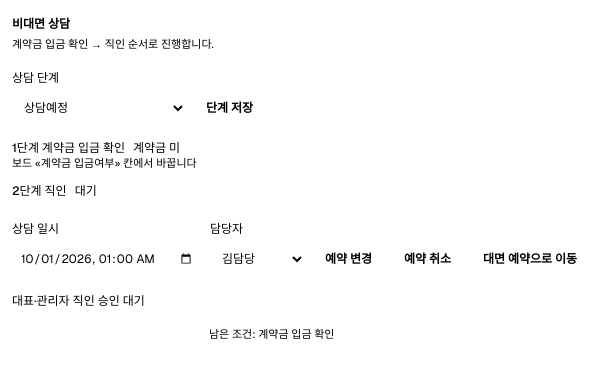
Scenario: ConsultationPanel › 예약(보기 전환) 성공 뒤에도 추가 버튼 없이 갱신된다
The image size is (606, 376).
Click the button "대면 예약으로 이동" at [530, 259], box [471,241,589,277]
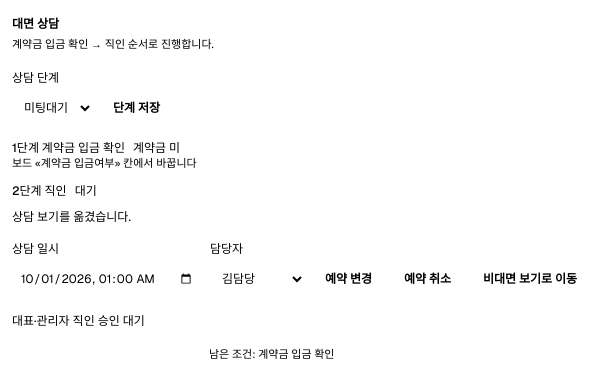
Expected: the text "대면 상담" is shown, [12,16,59,32]
Expected: the text "상담 보기를 옮겼습니다." is shown, [12,209,131,225]
